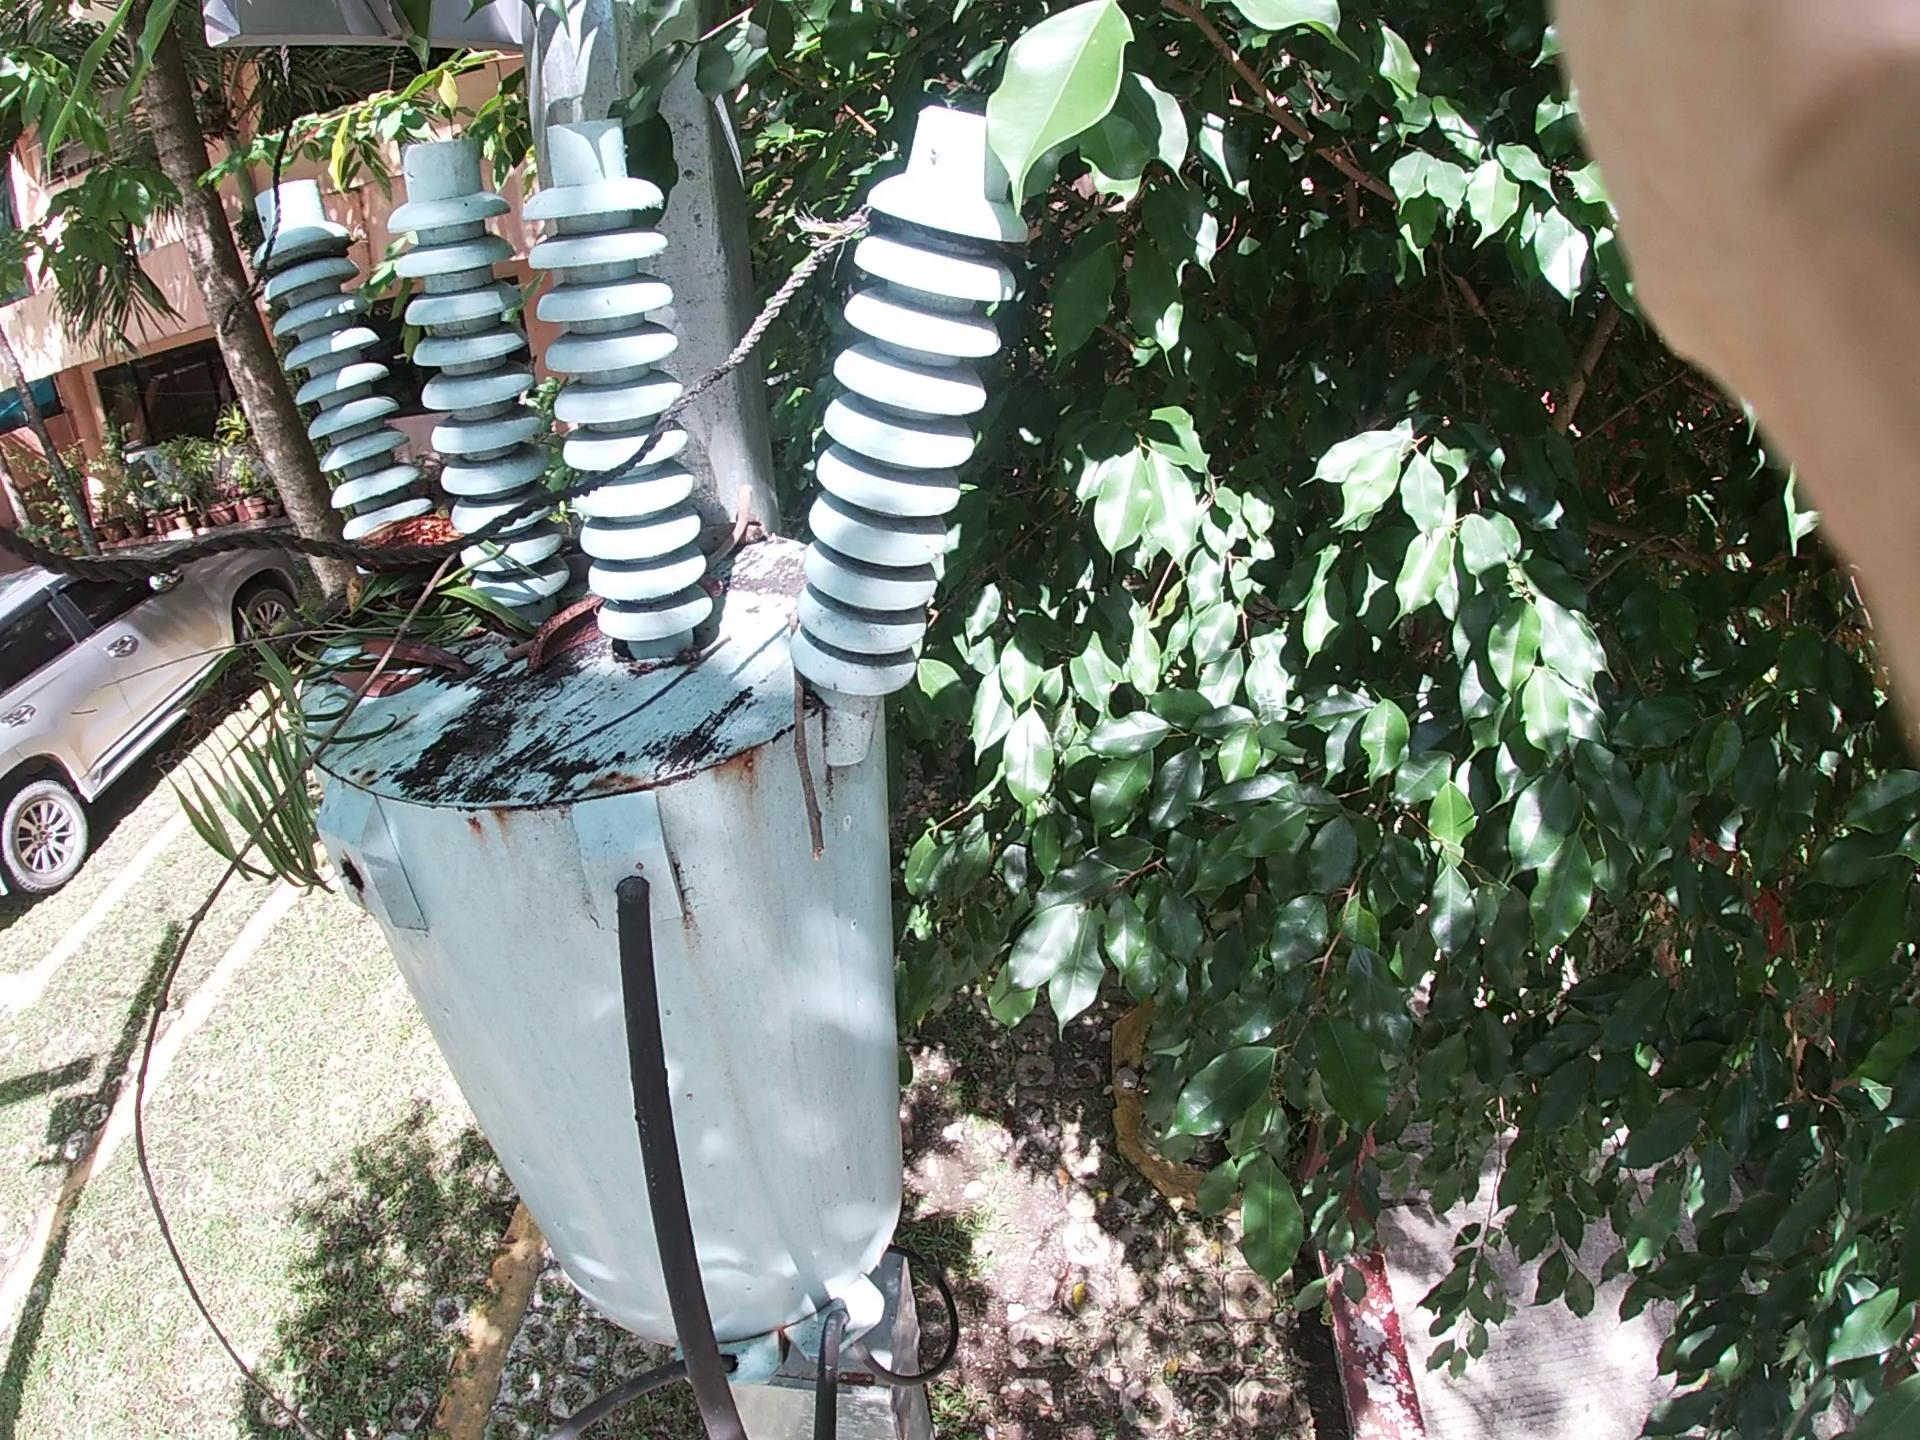branch with leaves: (154, 449, 470, 802)
leaf: (339, 588, 472, 762)
mahogany fruit: (333, 461, 463, 653), (490, 584, 655, 691)
tree branch: (200, 507, 491, 1262), (523, 460, 792, 711), (800, 604, 825, 882)
